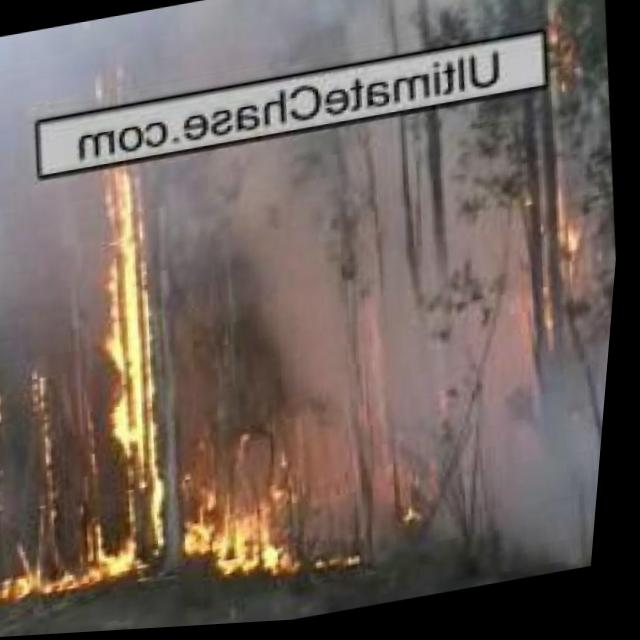Fire: (61, 70, 218, 593), (177, 473, 336, 589), (510, 202, 602, 353), (0, 531, 114, 615), (26, 364, 74, 510), (400, 462, 442, 543), (534, 22, 580, 92), (0, 384, 15, 443)
